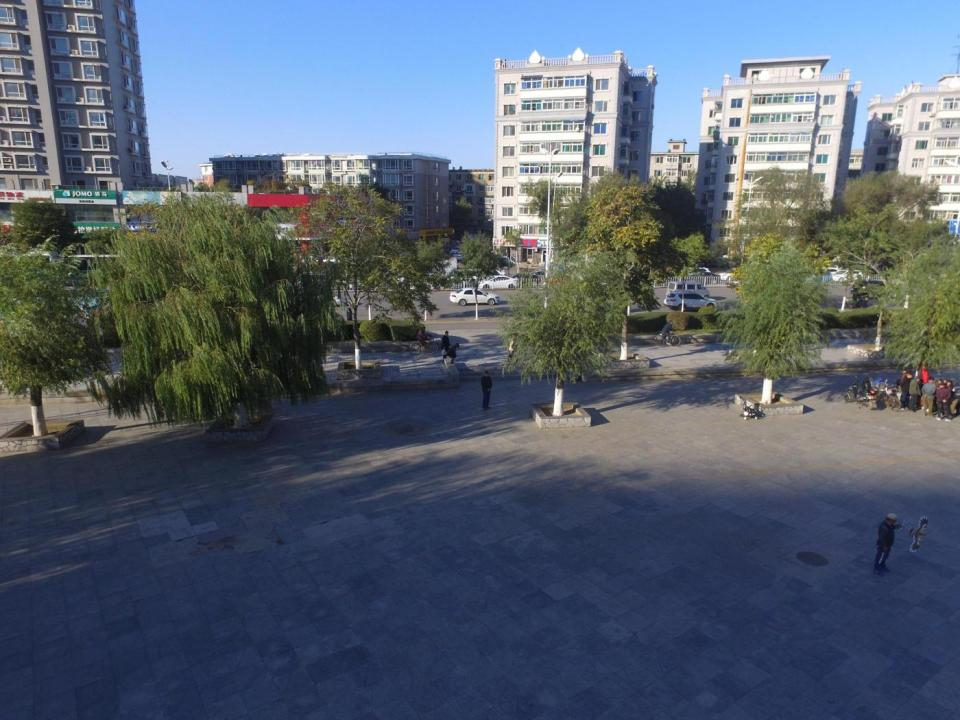car: (660, 290, 721, 311), (449, 286, 502, 308), (300, 287, 348, 308), (467, 263, 511, 283), (850, 279, 894, 298), (444, 269, 491, 286), (534, 263, 574, 281), (502, 270, 544, 286), (479, 273, 519, 289), (523, 268, 560, 285), (453, 249, 475, 261), (444, 239, 464, 250), (435, 242, 453, 253), (449, 246, 464, 257)
van: (665, 280, 713, 305)
